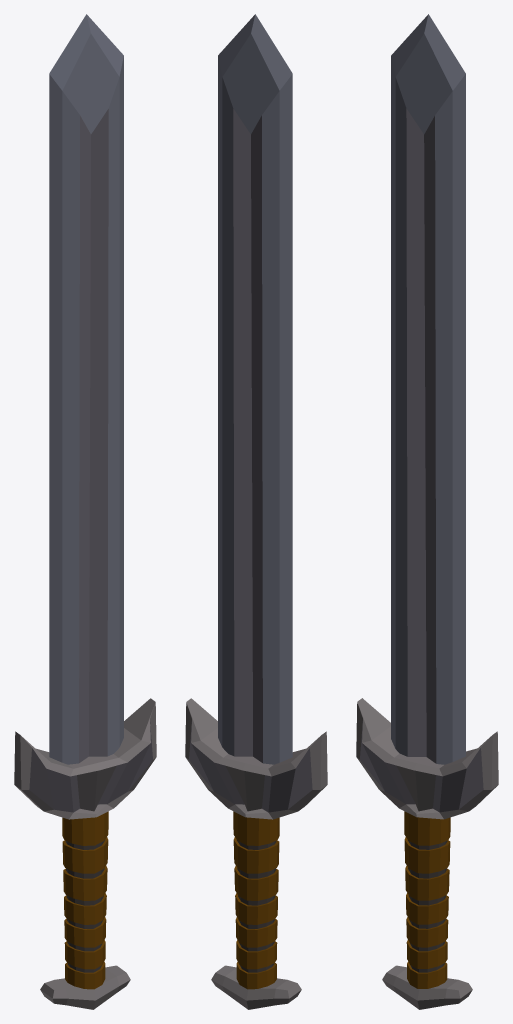
The model's file is sword.glb.
3 renders of one model, left to right at view 1: azimuth 30°, elevation 25°; view 2: azimuth 150°, elevation 25°; view 3: azimuth 330°, elevation 25°, orthographic.
Visible parts, largest first — view 1: Sword_Cube.001; view 2: Sword_Cube.001; view 3: Sword_Cube.001.
Part boxes in pixels (x1=…): Sword_Cube.001: x1=14, y1=14, x2=156, y2=1009; Sword_Cube.001: x1=185, y1=14, x2=327, y2=1009; Sword_Cube.001: x1=356, y1=14, x2=498, y2=1009.
Bounding box in the file's own units: 0.2561 × 1.79 × 0.0941.
